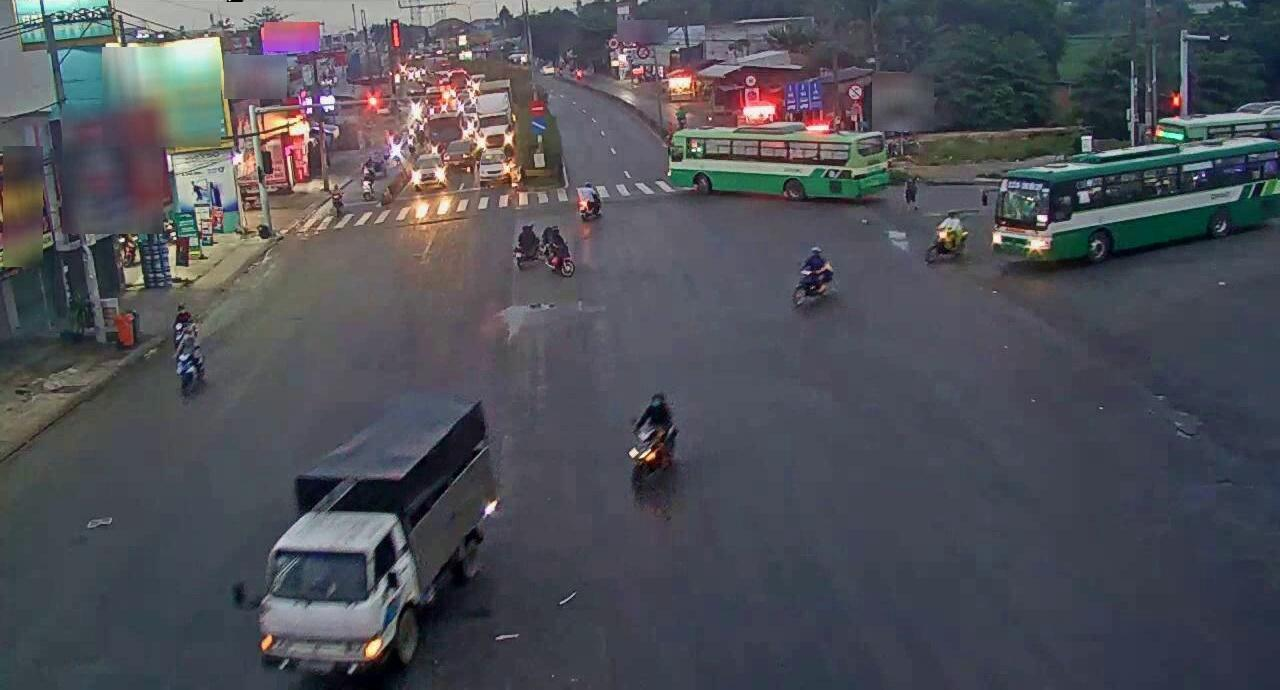xe buyt: (663, 130, 902, 202)
xe may: (627, 387, 677, 493), (789, 242, 835, 312), (175, 328, 205, 398), (511, 212, 544, 274), (539, 225, 575, 276), (575, 179, 599, 220)
xe tai: (252, 393, 501, 690)
